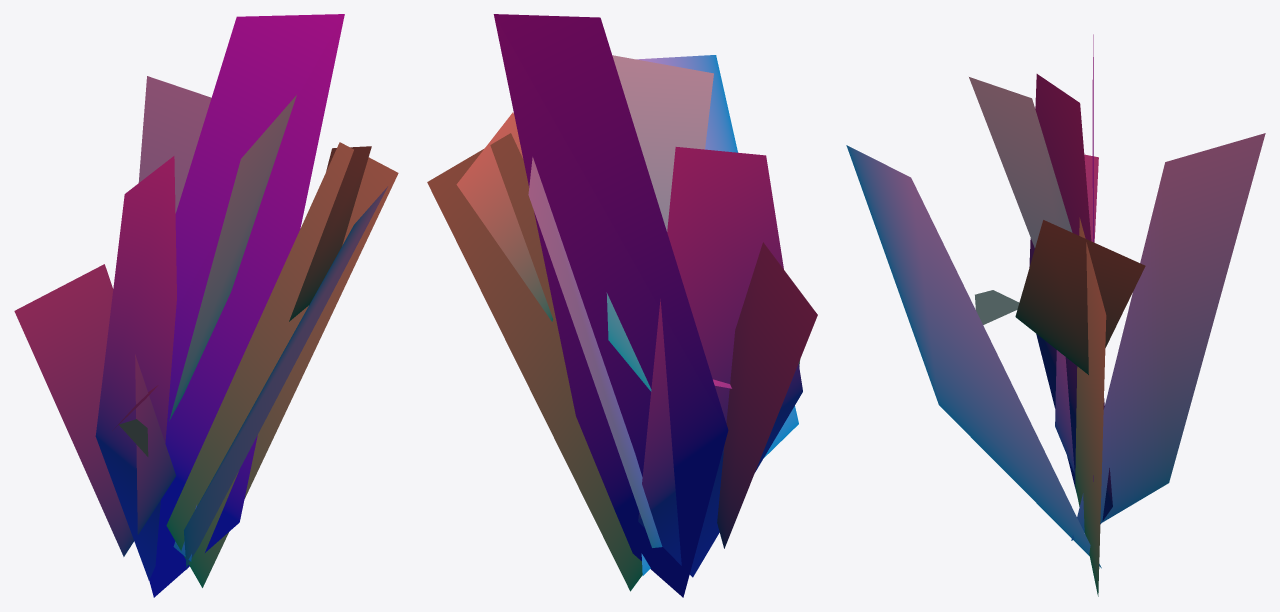
The model's file is Nordic_Coastal_Groundcover_vlqkdeaja_Mid_vlqkdeaja_VarJ_LOD3.fbx.
3 renders of one model, left to right at view 1: azimuth 30°, elevation 25°; view 2: azimuth 150°, elevation 25°; view 3: azimuth 270°, elevation 25°, orthographic. The views are drawn at different scales.
Parts seen in each view (by area): view 1: _9q28_VarJ_LOD5; view 2: _9q28_VarJ_LOD5; view 3: _9q28_VarJ_LOD5.
Boxes of the visible parts, bbox=[...] form: _9q28_VarJ_LOD5: bbox=[14, 14, 398, 597]; _9q28_VarJ_LOD5: bbox=[427, 14, 817, 597]; _9q28_VarJ_LOD5: bbox=[846, 34, 1265, 596].
Size of the model in its own units: 21.84 by 30.42 by 19.26.
